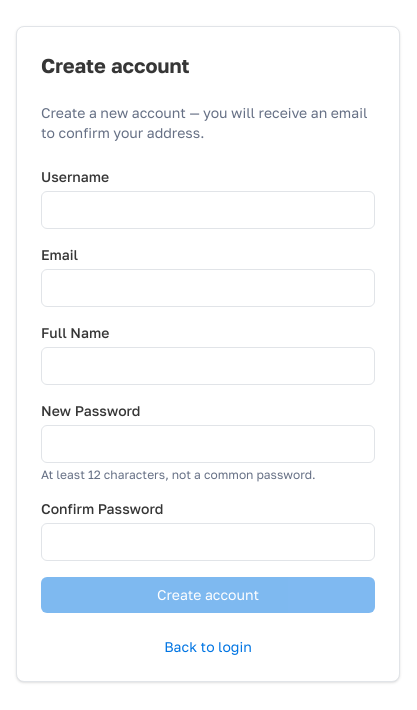
Test: Register.vue WO-REG-6 › criterion2: email already exists → message under email field, not generic alert
The width and height of the screenshot is (417, 710).
Step 1. Type "dupeuser" into the field with test id "register-username" → [208, 210], box [41,191,375,229]
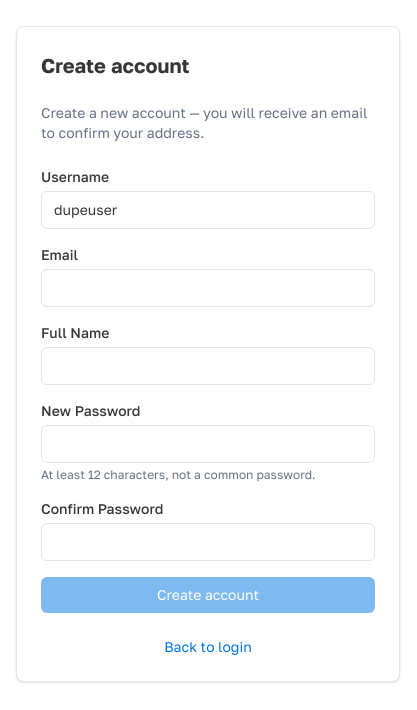
Step 2. Type "dupe@example.com" into the field with test id "register-email" → [208, 288], box [41,269,375,307]
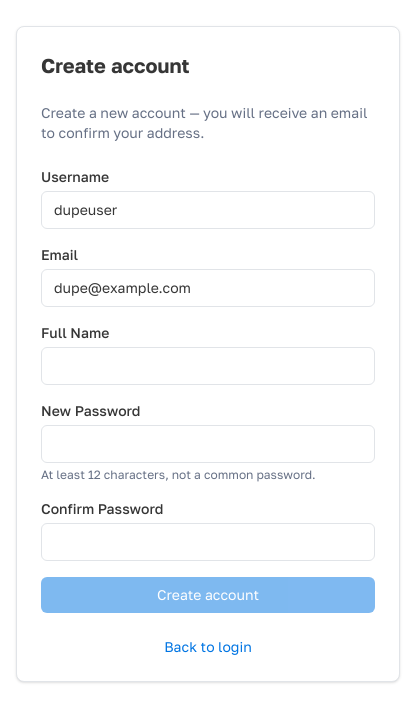
Step 3. Type "a-genuinely-strong-Passphrase-42" into the password field with test id "register-password" → [208, 444], box [41,425,375,463]
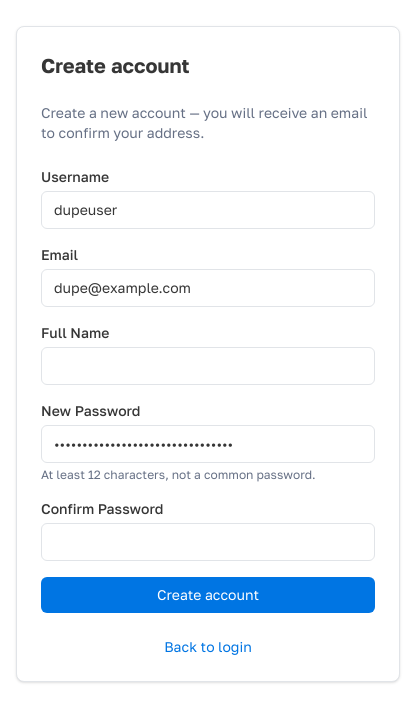
Step 4. Type "a-genuinely-strong-Passphrase-42" into the password field below "Confirm Password" → [208, 542], box [41,523,375,561]
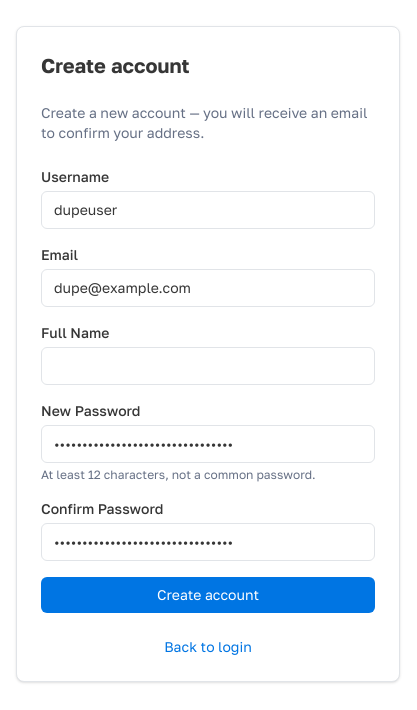
Step 5. Submit the form, box [41,167,375,613]
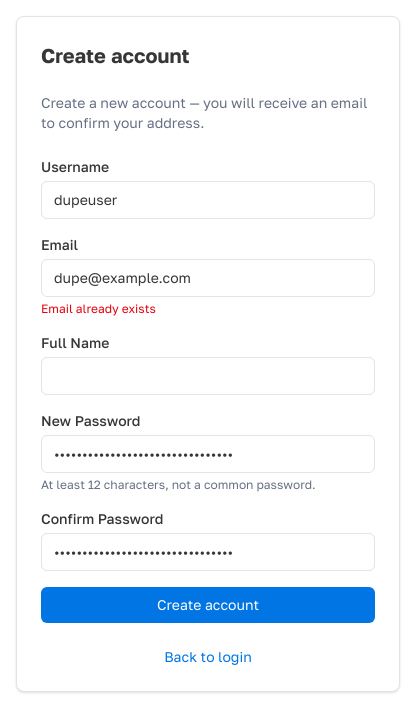
Expected: the text "Email already exists" is shown, [41,301,156,316]
